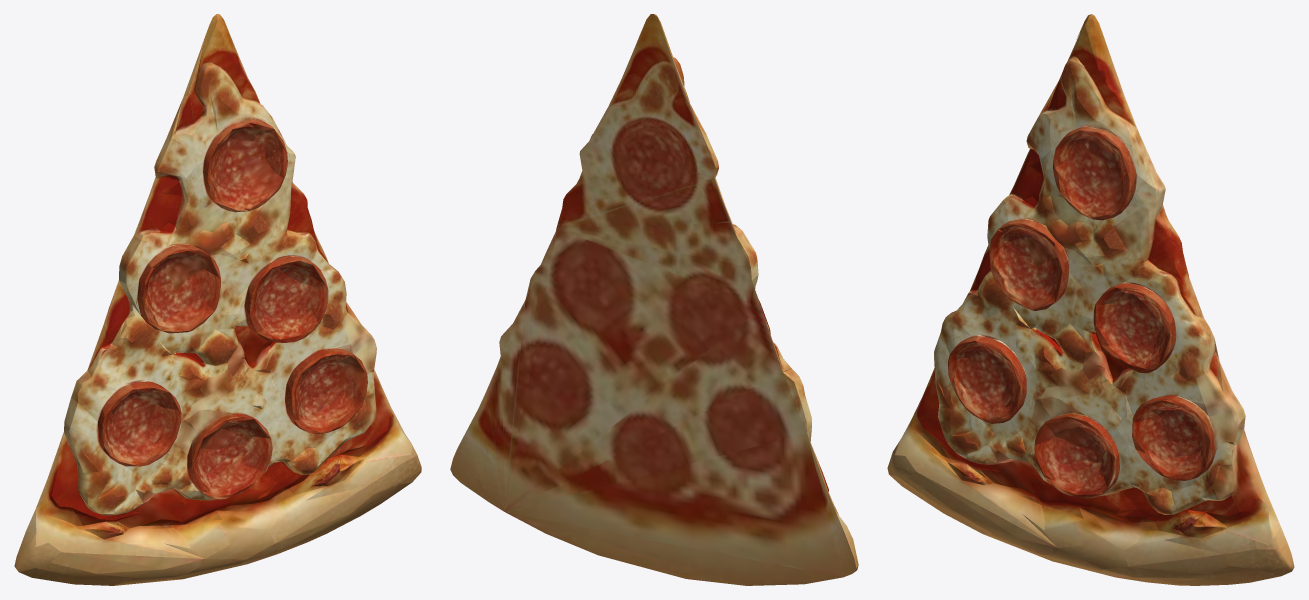
The model's file is pizza_slice.glb.
3 views of the same model, side by side, from view 1: azimuth 30°, elevation 25°; view 2: azimuth 150°, elevation 25°; view 3: azimuth 330°, elevation 25° (orthographic).
Parts seen in each view (by area): view 1: Mesh_0; view 2: Mesh_0; view 3: Mesh_0.
Boxes of the visible parts, x1,y1,x2,y2 form: Mesh_0: (14, 14, 421, 585); Mesh_0: (450, 14, 858, 585); Mesh_0: (887, 14, 1294, 585).
Size of the model in its own units: 0.1527 by 0.2 by 0.012.
Materials: 1 (1 with a texture image).
